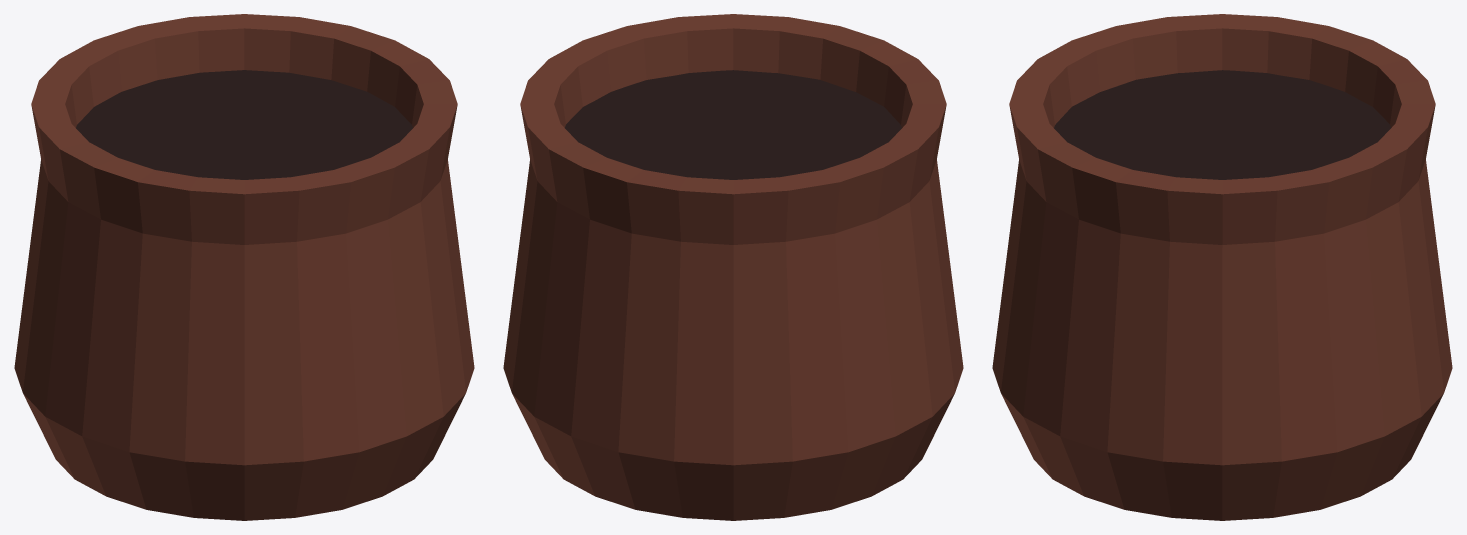
The model's file is MBJ_PlantPack01_Pot02_LOD3_v001.fbx.
3 renders of one model, left to right at view 1: azimuth 30°, elevation 25°; view 2: azimuth 150°, elevation 25°; view 3: azimuth 270°, elevation 25°, orthographic.
Visible parts, largest first — view 1: PlantPot02_C.001; view 2: PlantPot02_C.001; view 3: PlantPot02_C.001.
Part boxes in pixels (<box>): PlantPot02_C.001: <box>14,14,474,520</box>; PlantPot02_C.001: <box>503,14,963,520</box>; PlantPot02_C.001: <box>992,14,1452,520</box>.
Size of the model in its own units: 57.37 by 45.99 by 57.37.
